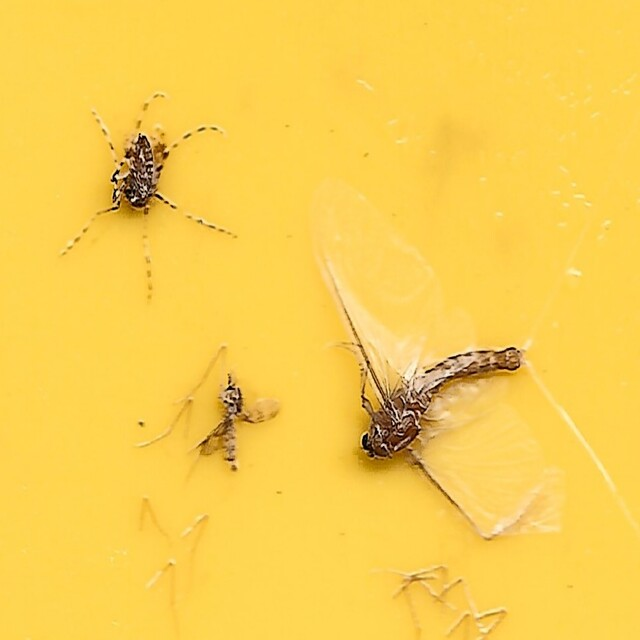Ephemeroptera: (309, 179, 573, 549)
Nematocera: (67, 91, 244, 284), (198, 376, 280, 473)
